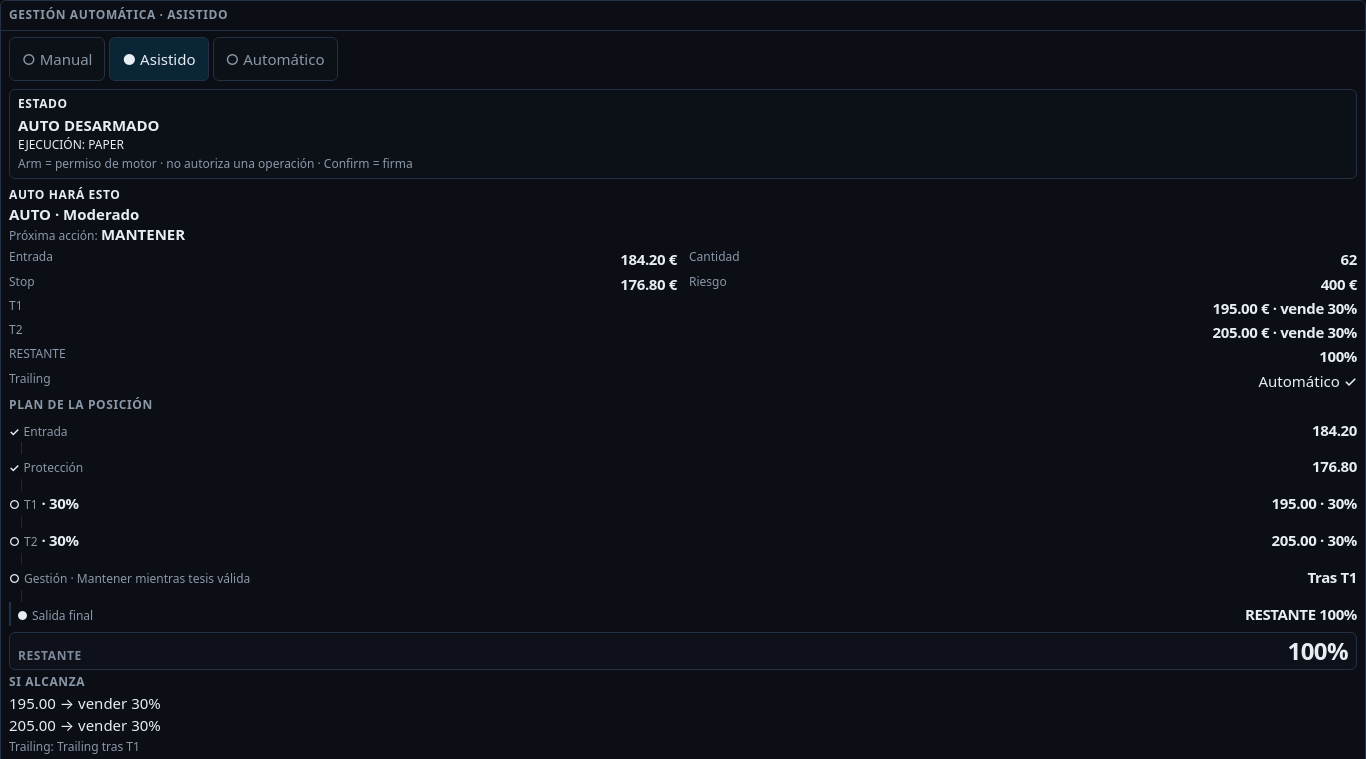
AutoDeskPanel V2.39 arm honesty › wrong phrase fails; exact ACTIVAR AUTO arms via tryArmAuto
Click the button with test id "auto-desk-mode-auto". click: (275, 59)
box: [212,37,338,81]
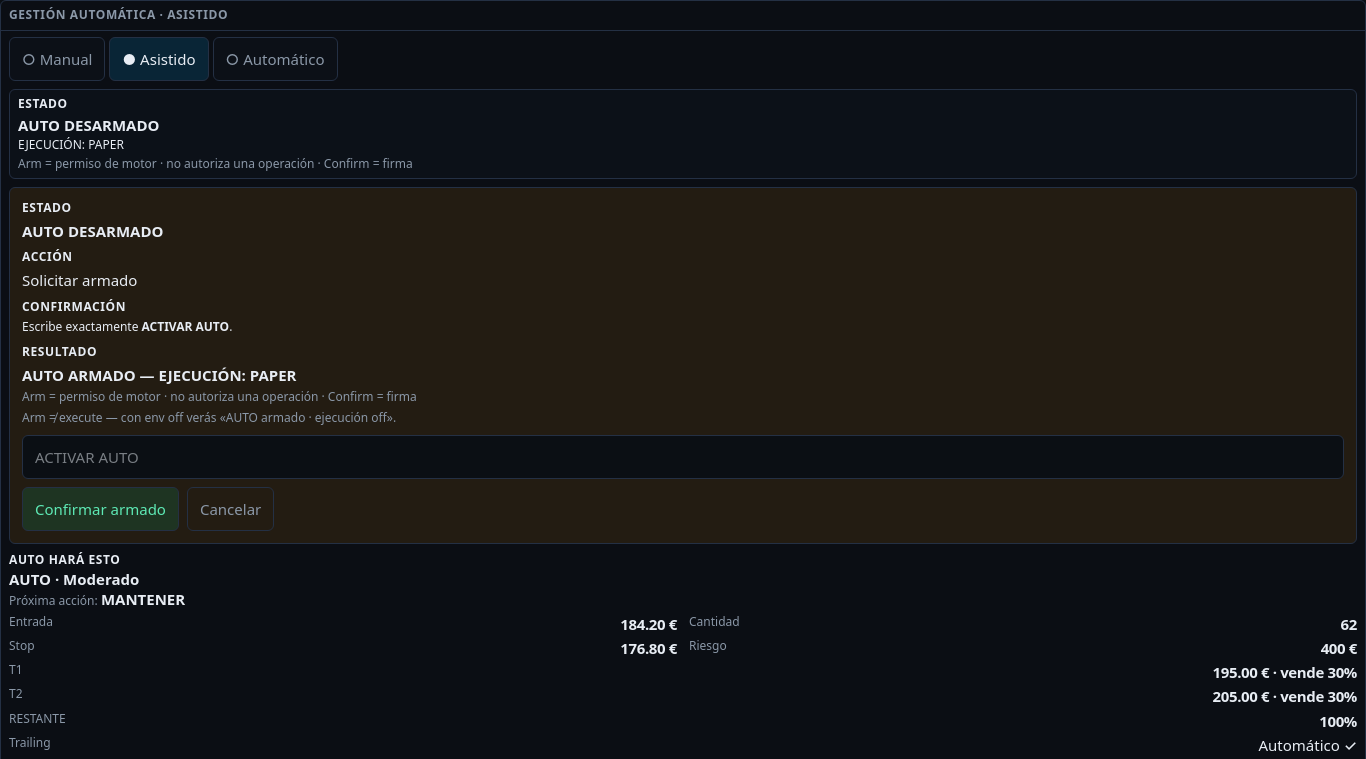
Type "activar auto" into the field with test id "demo-book-auto-arm-phrase". click: (683, 457)
box: [22,435,1344,479]
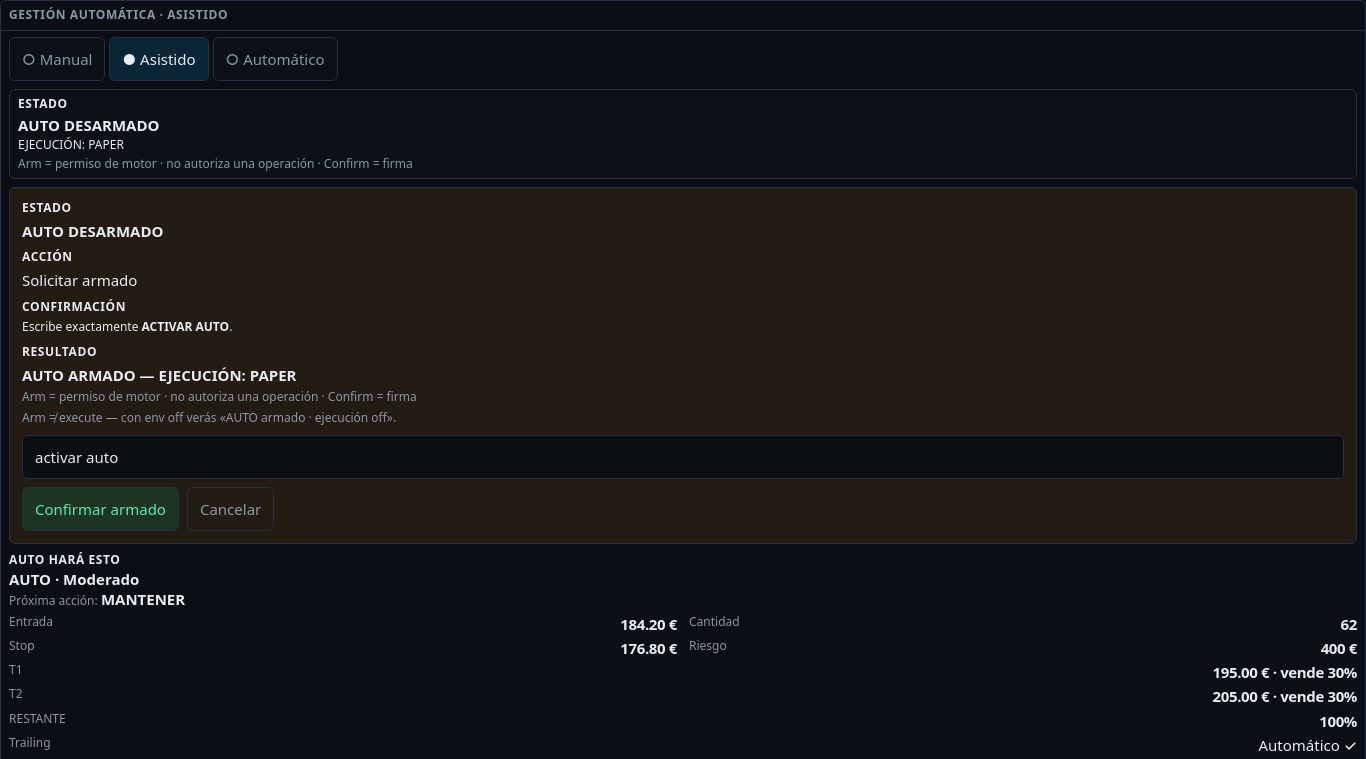
Click the button with test id "demo-book-auto-arm-confirm". click: (100, 509)
box: [22,487,179,531]
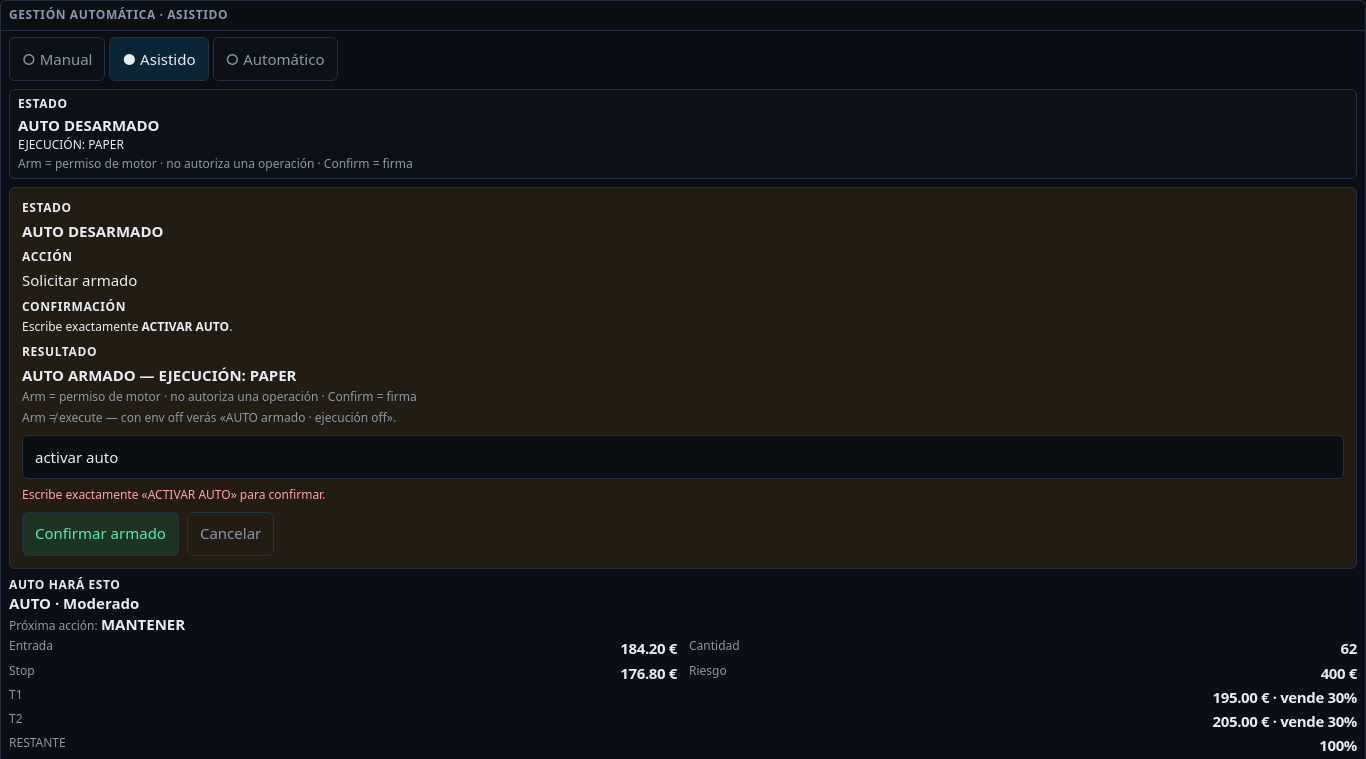
Expected: the text "Escribe exactamente «ACTIVAR AUTO» para confirmar." is shown, [22,486,325,503]
Replace the text in the field with test id "demo-book-auto-arm-phrase" with "ACTIVAR AUTO". click: (683, 457)
box: [22,435,1344,479]
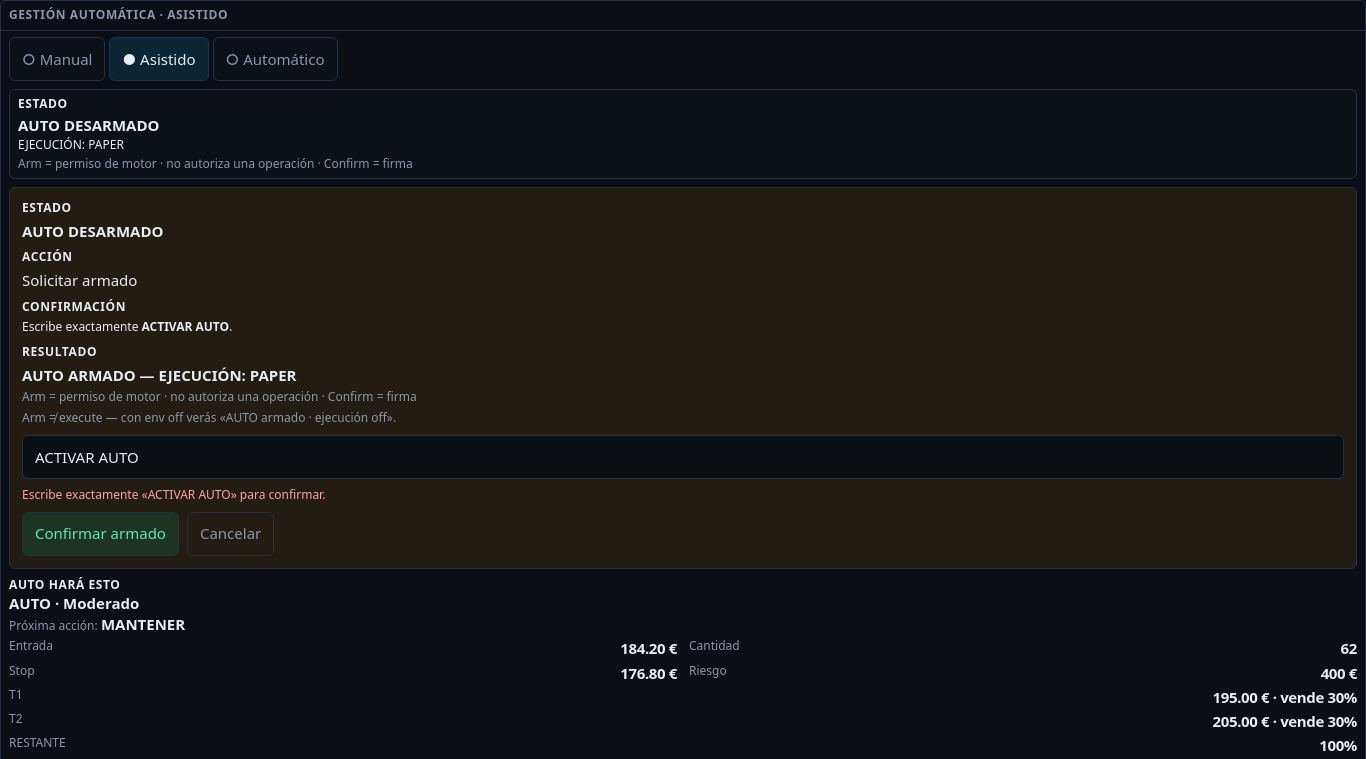
Click the button with test id "demo-book-auto-arm-confirm". click: (100, 534)
box: [22,512,179,556]
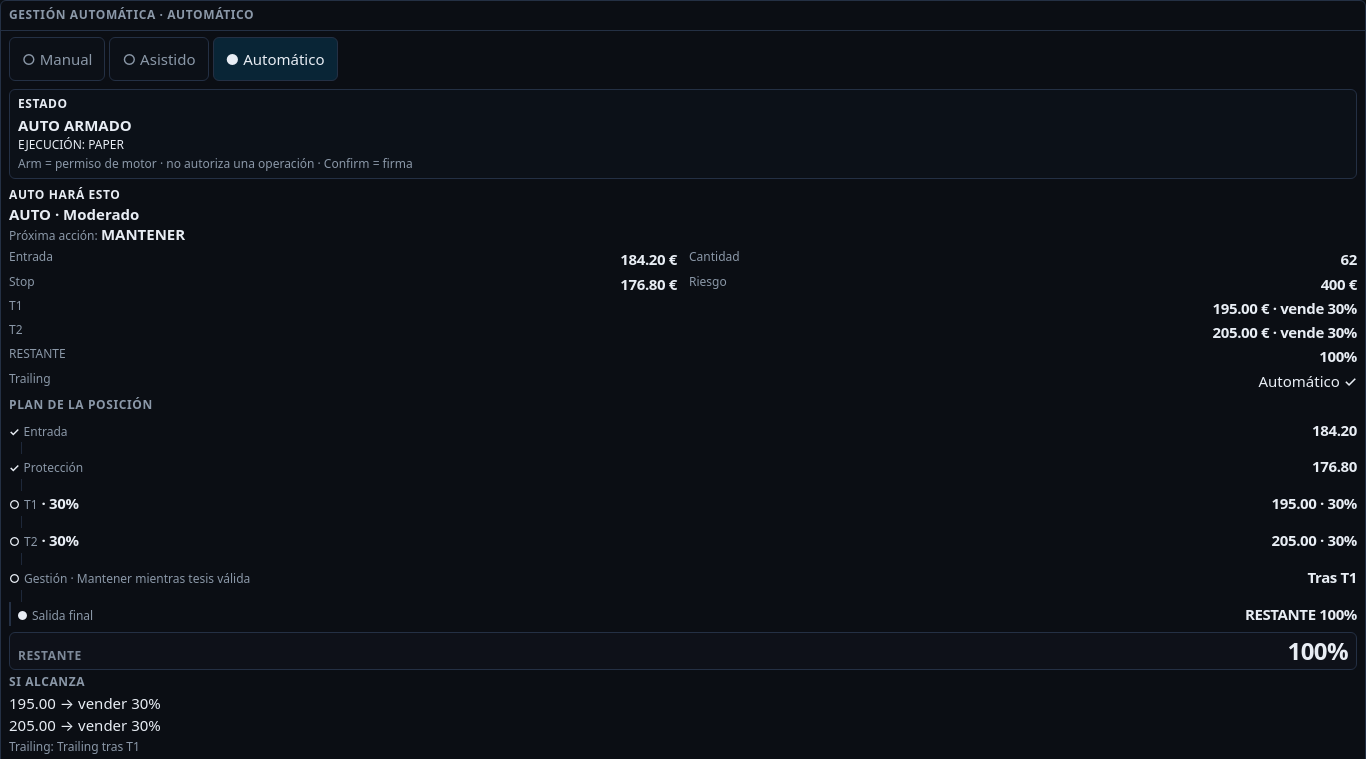
Expected: the element with test id "demo-book-auto-arm-form" is gone
